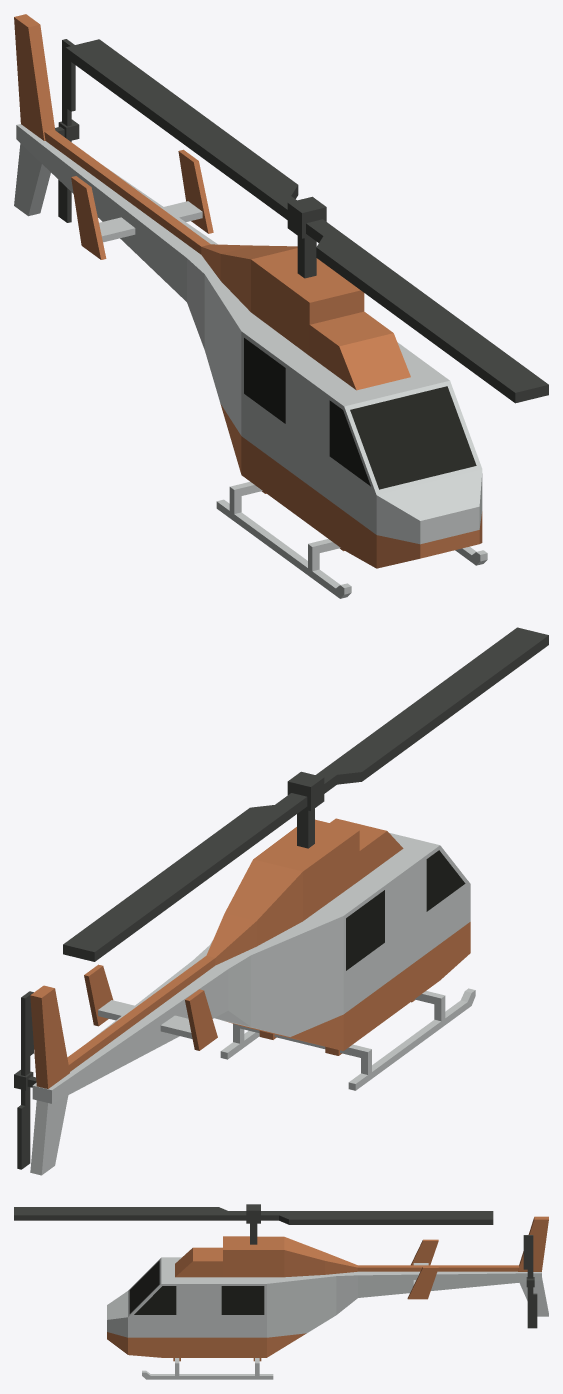
Rendered from Veh_Helicopter_01_Orange.obj.
3 renders of one model, top to bottom at view 1: azimuth 30°, elevation 25°; view 2: azimuth 150°, elevation 25°; view 3: azimuth 270°, elevation 25°, orthographic. The views are drawn at different scales.
Size of the model in its own units: 1.02 by 2.05 by 6.44.
